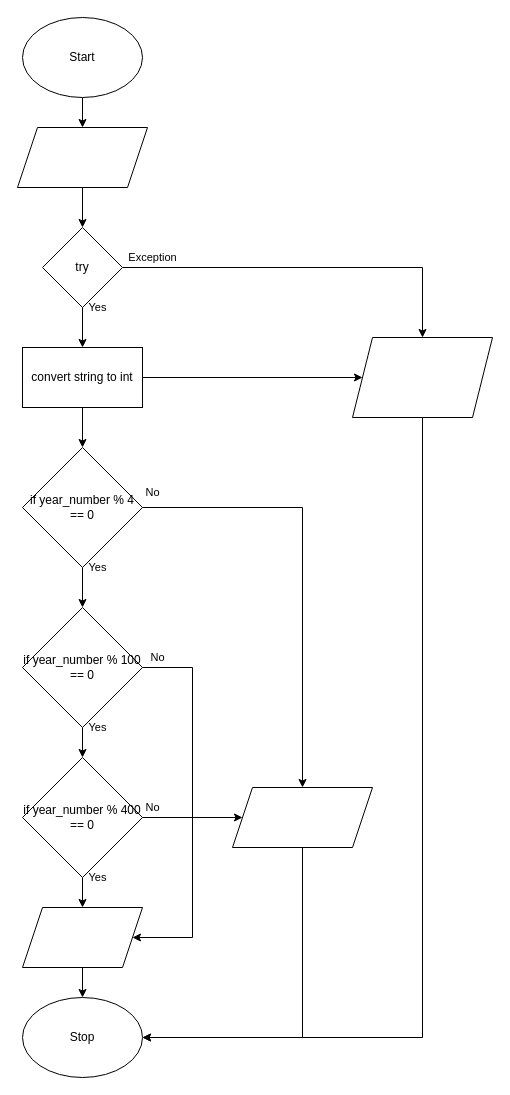
Image size: 510x1095. Some labels were removed from this diagram. Here are the shapes that lost their labels. From the top down, the centre of each, then its label:
(x=82, y=157): get year_number
(x=422, y=377): print ("Invalid Input. T\Please try again")
(x=302, y=817): print ("It is not a leap year")
(x=82, y=937): print ("It is a leap year")
